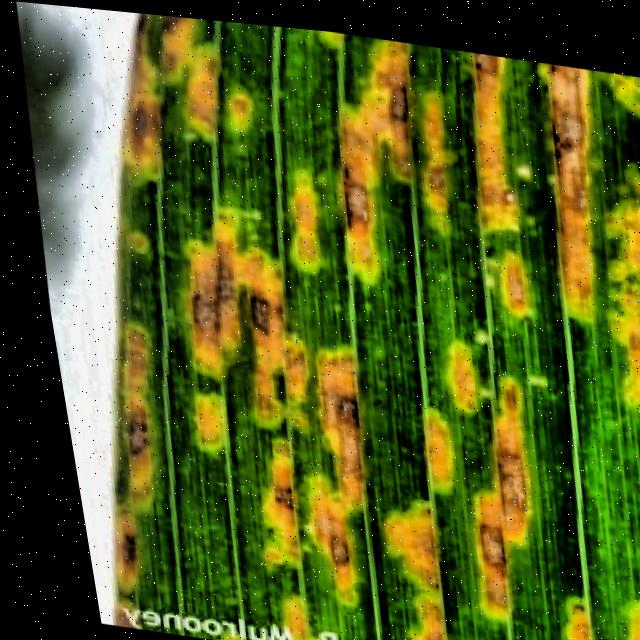gray_spot: (26, 3, 640, 640)
